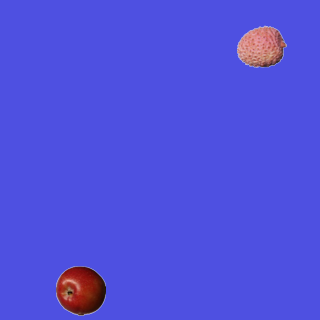Apple Braeburn: (55, 265, 105, 315)
Lychee: (236, 21, 286, 71)
